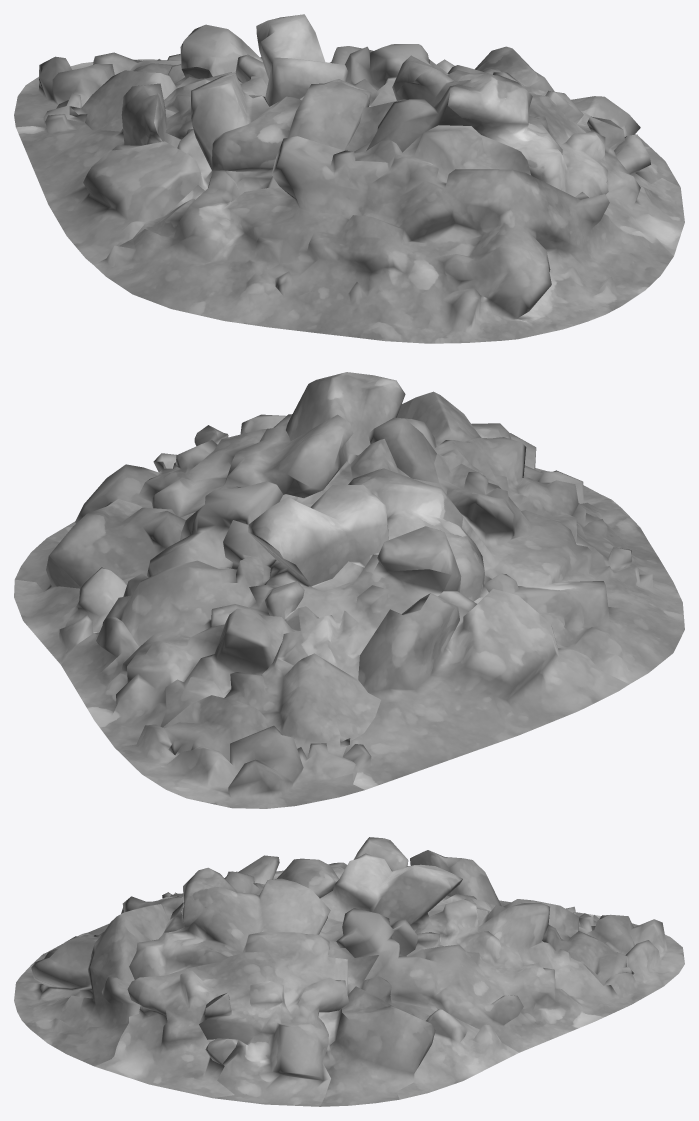
The model's file is SM_Debris_01a.fbx.
3 views of the same model, one above another, from view 1: azimuth 30°, elevation 25°; view 2: azimuth 150°, elevation 25°; view 3: azimuth 270°, elevation 25° (orthographic). The views are drawn at different scales.
Parts seen in each view (by area): view 1: SM_Debris_01a_LOD0; view 2: SM_Debris_01a_LOD0; view 3: SM_Debris_01a_LOD0.
Boxes of the visible parts, x1,y1,x2,y2 form: SM_Debris_01a_LOD0: (14, 14, 684, 343); SM_Debris_01a_LOD0: (14, 372, 684, 808); SM_Debris_01a_LOD0: (14, 837, 684, 1106).
Size of the model in its own units: 260 by 325 by 71.83.
